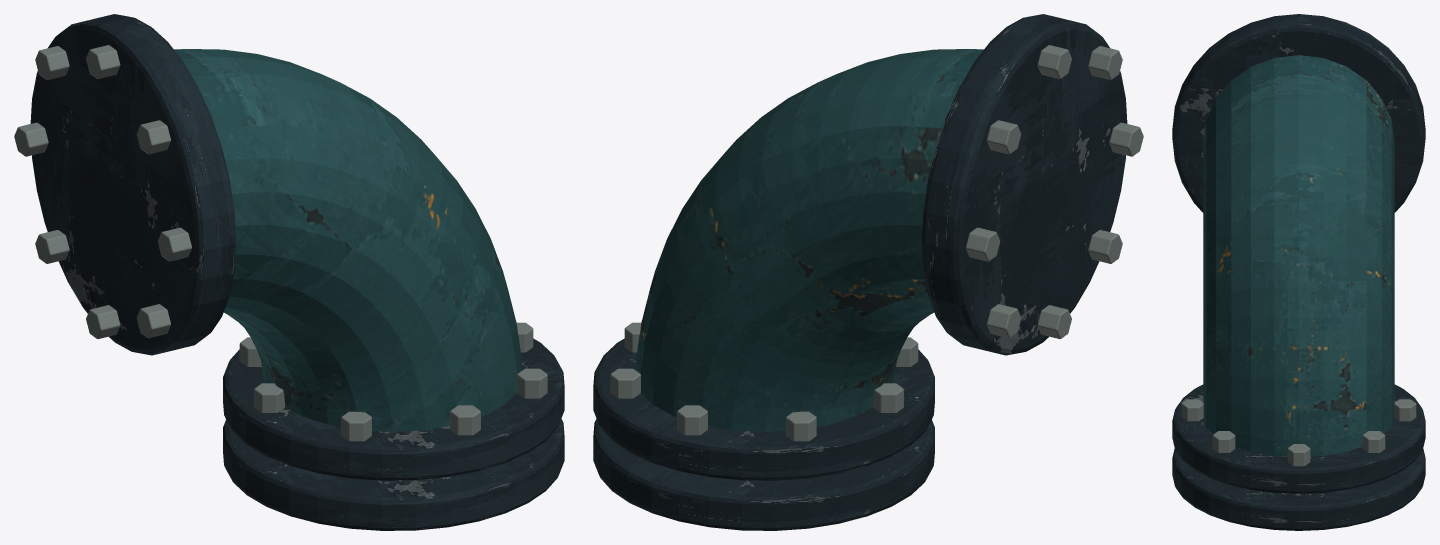
File: pipe-elbow.glb
3 renders of one model, left to right at view 1: azimuth 30°, elevation 25°; view 2: azimuth 150°, elevation 25°; view 3: azimuth 270°, elevation 25°, orthographic. The views are drawn at different scales.
Visible parts, largest first — view 1: pipe-elbow__pipe-elbow__petrol, pipe-elbow__pipe-elbow__steel, pipe-elbow__pipe-elbow__hardware; view 2: pipe-elbow__pipe-elbow__petrol, pipe-elbow__pipe-elbow__steel, pipe-elbow__pipe-elbow__hardware; view 3: pipe-elbow__pipe-elbow__petrol, pipe-elbow__pipe-elbow__steel, pipe-elbow__pipe-elbow__hardware.
Part boxes in pixels (x1=…): pipe-elbow__pipe-elbow__petrol: x1=174, y1=49, x2=522, y2=431; pipe-elbow__pipe-elbow__steel: x1=30, y1=14, x2=564, y2=530; pipe-elbow__pipe-elbow__hardware: x1=14, y1=45, x2=547, y2=441; pipe-elbow__pipe-elbow__petrol: x1=635, y1=49, x2=983, y2=431; pipe-elbow__pipe-elbow__steel: x1=593, y1=14, x2=1127, y2=530; pipe-elbow__pipe-elbow__hardware: x1=610, y1=45, x2=1143, y2=441; pipe-elbow__pipe-elbow__petrol: x1=1203, y1=55, x2=1394, y2=456; pipe-elbow__pipe-elbow__steel: x1=1172, y1=14, x2=1425, y2=530; pipe-elbow__pipe-elbow__hardware: x1=1181, y1=399, x2=1416, y2=466.
Bounding box in the file's own units: 1.12 × 1.18 × 0.74.
3 materials, 2 textured.
